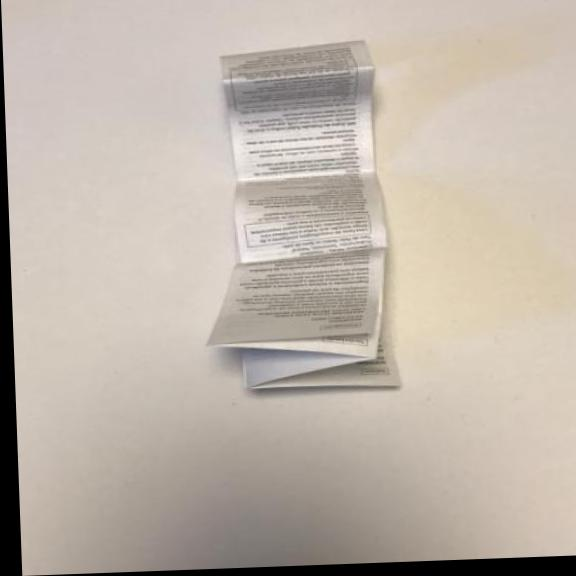Kertas: (186, 27, 410, 417)
